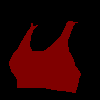reggiseno: (9, 20, 81, 93)
